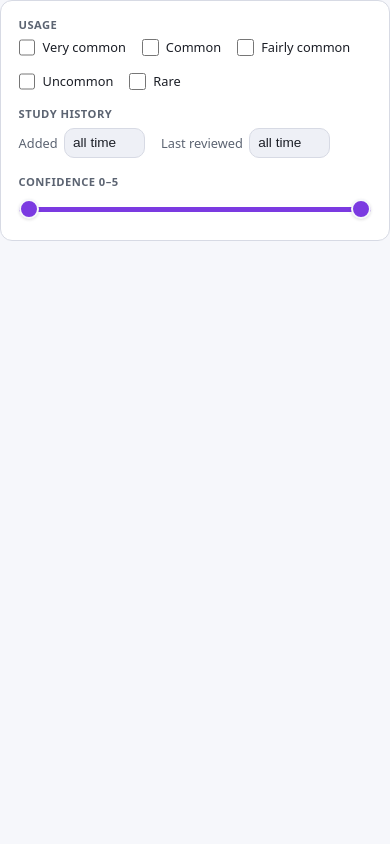
Test case: the date axes — dropdown + custom calendar › shows only one calendar at a time
Select "custom" in the dropdown named "Filter by date added" at x=104, y=143, box [64,128,145,158]
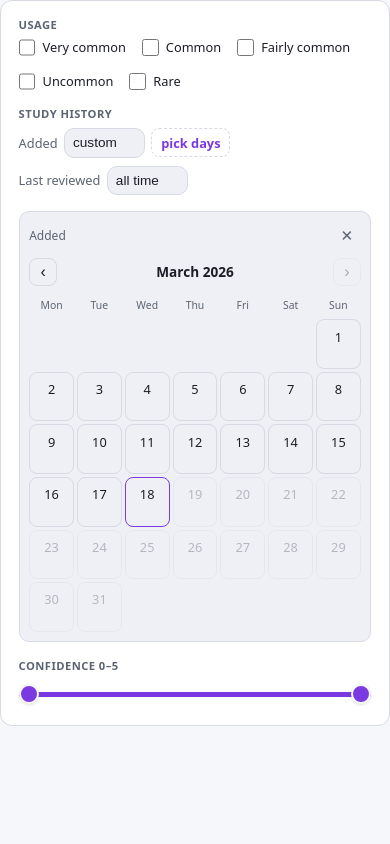
Check: the text "March 2026" is shown once, box [156,262,234,281]
Select "custom" in the dropdown named "Filter by date last reviewed" at x=147, y=180, box [107,166,188,195]
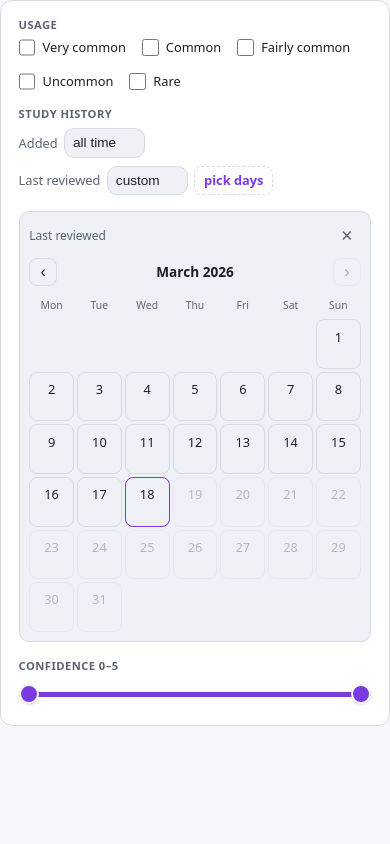
Check: the text "March 2026" is shown once, box [156,262,234,281]
Check: the element named "Last reviewed: pick a date range" is shown, box [19,211,371,642]
